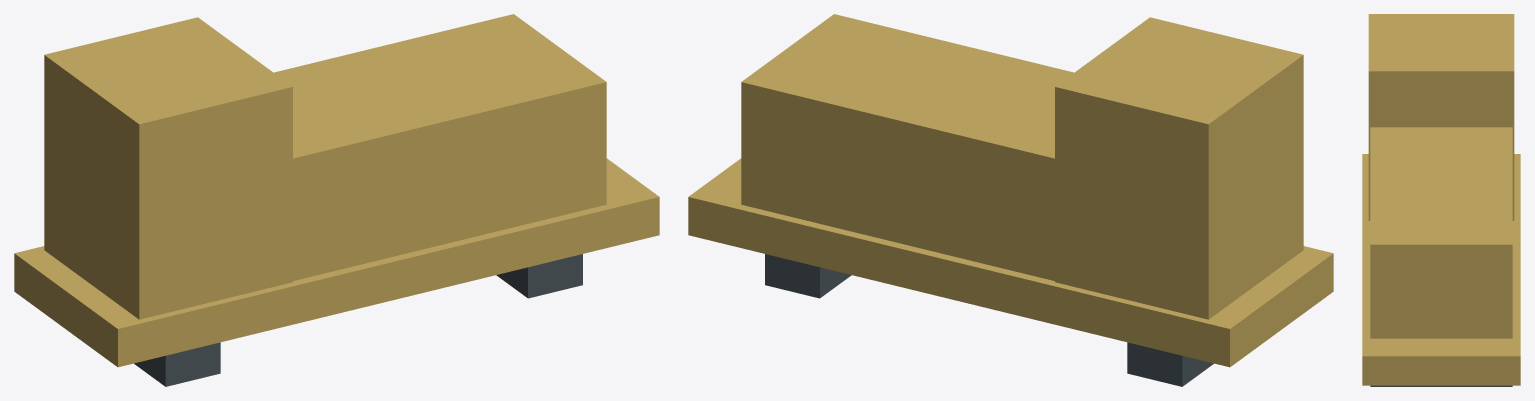
Rendered from locomotive-lod2.glb.
The picture shows the model from 3 angles, left to right: view 1: azimuth 30°, elevation 25°; view 2: azimuth 150°, elevation 25°; view 3: azimuth 270°, elevation 25°; orthographic projection. The views are drawn at different scales.
Visible parts, largest first — view 1: hood, cab, body, wheelblock-2.6, wheelblock2.35; view 2: hood, cab, body, wheelblock-2.6, wheelblock2.35; view 3: hood, cab, body, wheelblock2.35.
Part boxes in pixels (x1,y1,x2,y2): hood: (274,14,606,280); cab: (44,17,292,319); body: (14,158,659,367); wheelblock-2.6: (134,342,220,386); wheelblock2.35: (496,254,582,298); hood: (741,14,1073,280); cab: (1055,17,1303,319); body: (688,158,1333,367); wheelblock-2.6: (1127,342,1213,386); wheelblock2.35: (765,254,851,298); hood: (1370,127,1512,338); cab: (1368,14,1514,220); body: (1362,154,1520,385); wheelblock2.35: (1370,385,1512,386).
Bounding box in the file's own units: 7.4 × 3.53 × 2.45.
